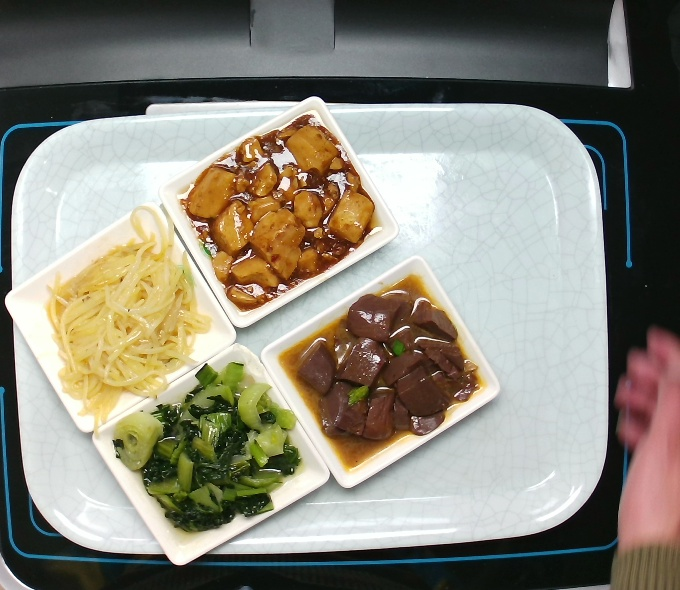wcq-MaPoDouFu: (183, 128, 378, 304)
wcq-NiuXue: (284, 280, 479, 456)
wcq-TuDouSi: (19, 238, 214, 414)
wcq-YouDongCai: (110, 358, 305, 534)
